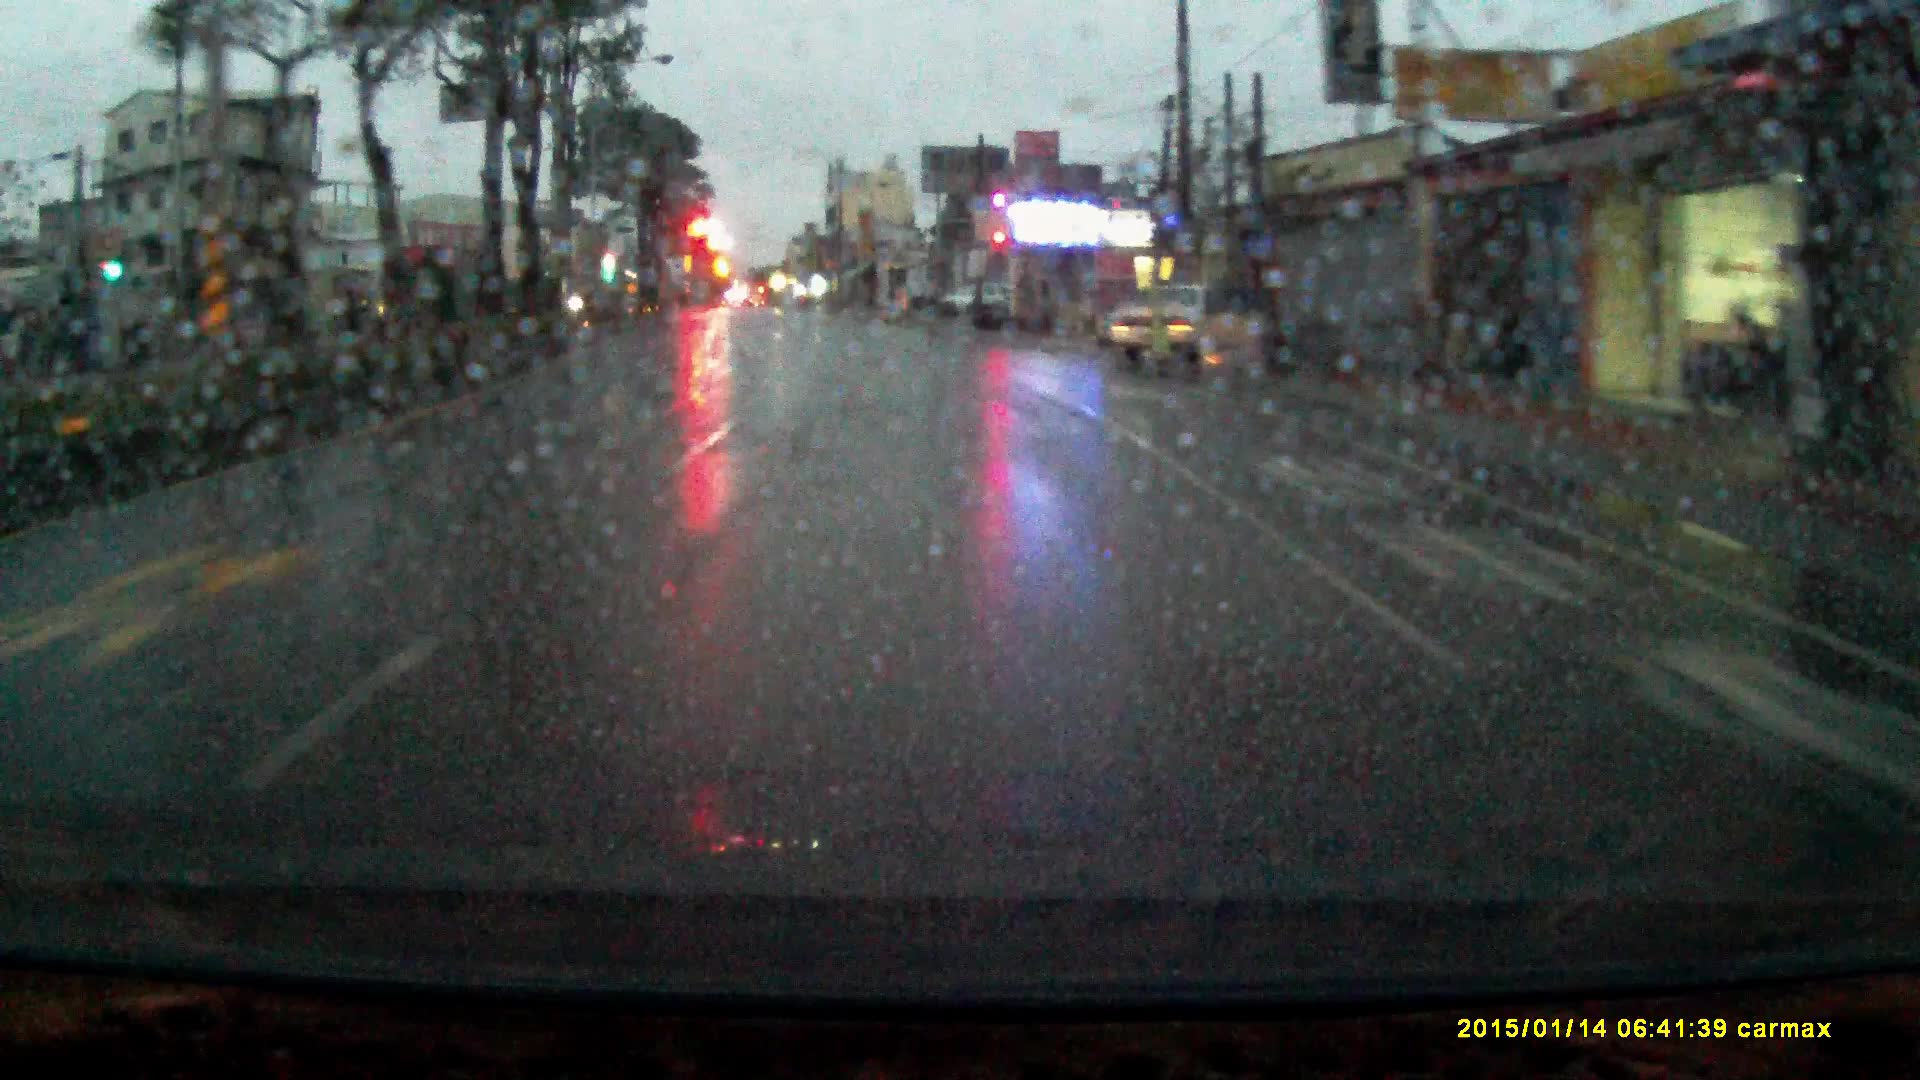vehicle: (1118, 291, 1263, 381), (939, 284, 1015, 320)
